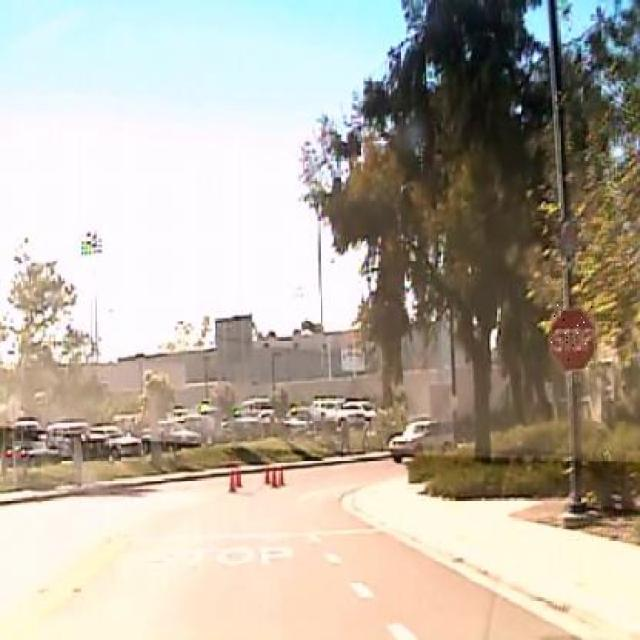stop: (548, 304, 596, 370)
